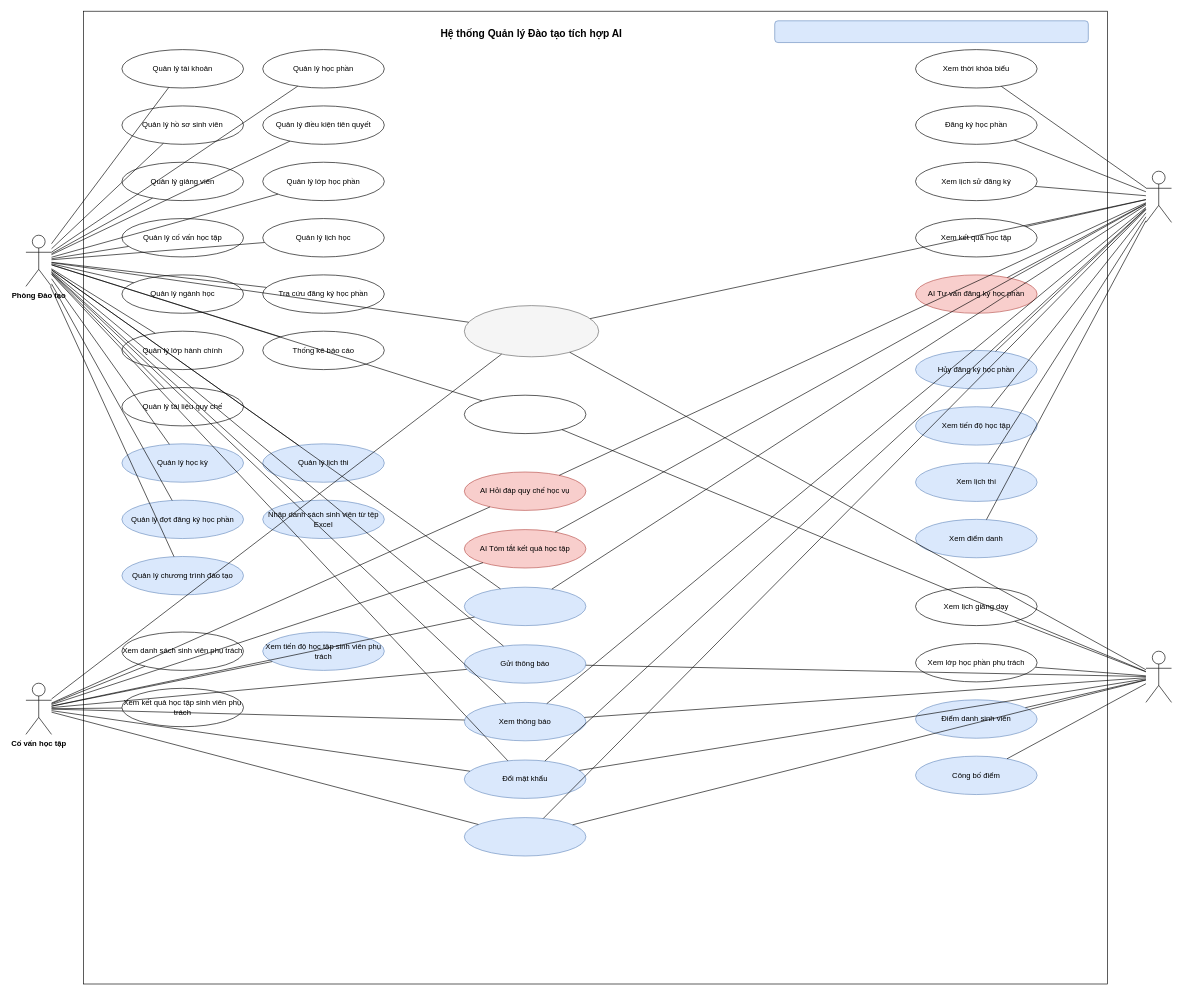
Some shapes in this 1189 by 995 pixel diagram are drawn without their labels. The centre of each missing label's shape, as x and y in pixels:
Cập nhật thông tin cá nhân: point 525,836
Giảng viên: point 1158,676
Màu xanh nhạt: chức năng mở rộng ngoài đề (đã được giảng viên cho phép): point 931,31
Quản lý điểm: point 525,414
Sinh viên: point 1158,196
Xem cảnh báo học vụ: point 525,606
Đăng nhập hệ thống: point 531,331
